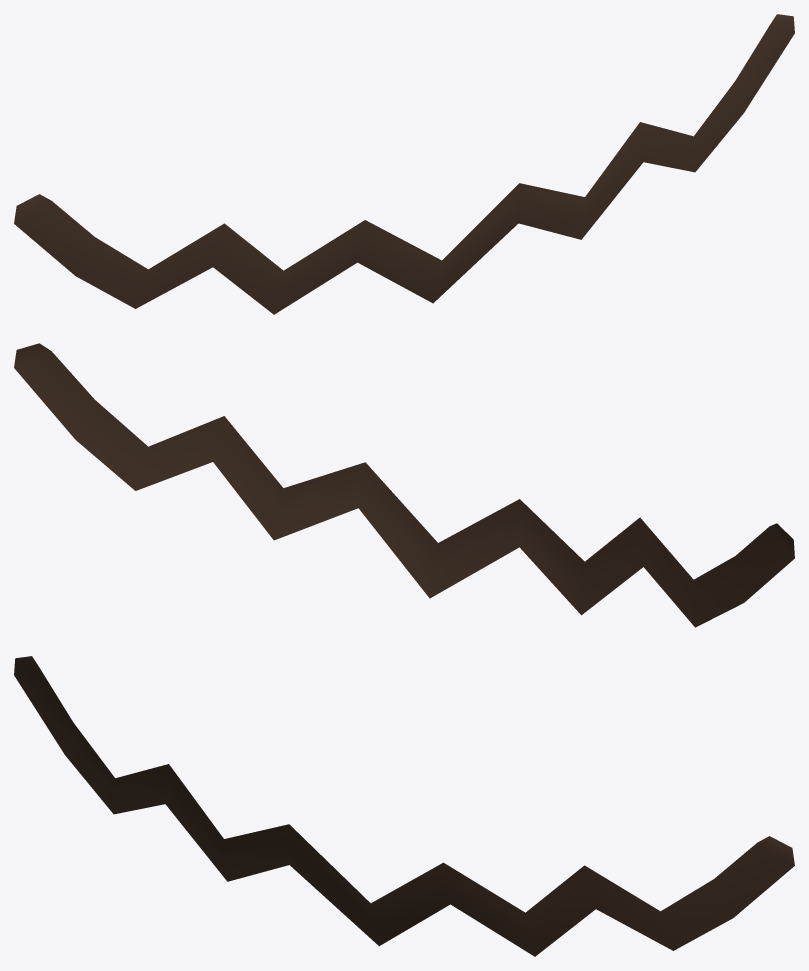
The model's file is Mouth_4.fbx.
3 renders of one model, top to bottom at view 1: azimuth 30°, elevation 25°; view 2: azimuth 150°, elevation 25°; view 3: azimuth 330°, elevation 25°, orthographic.
Parts seen in each view (by area): view 1: Mouth_4; view 2: Mouth_4; view 3: Mouth_4.
Boxes of the visible parts, box(x1,y1,x2,y2) form: Mouth_4: box(14, 14, 794, 314); Mouth_4: box(14, 343, 794, 627); Mouth_4: box(14, 656, 794, 956).
Size of the model in its own units: 22.94 by 5.13 by 1.93.
